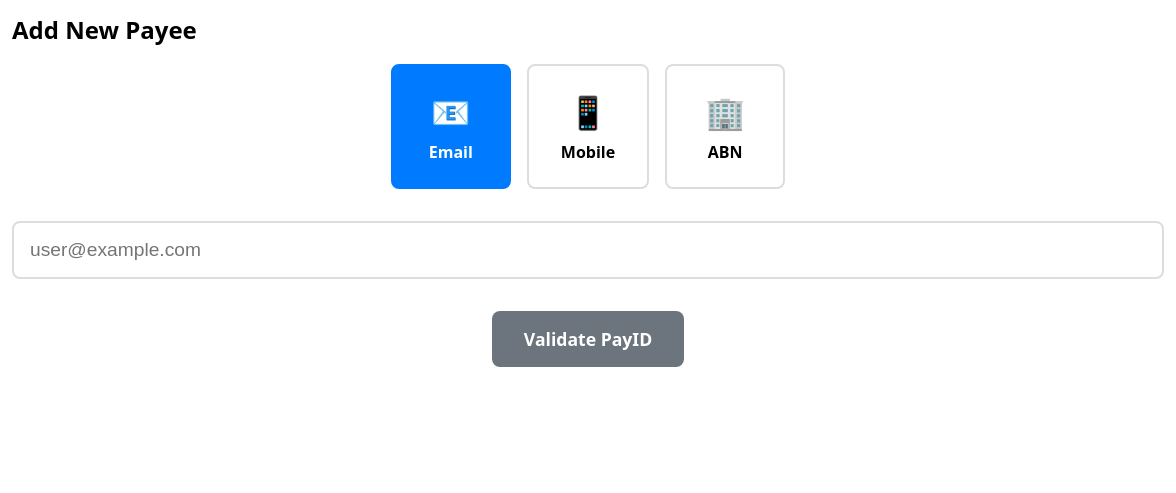
AddNewPayee › form submission › should handle errors during payee creation
Type "test@example.com" into the field with placeholder "user@example.com".
click(588, 250); type("test@example.com")  # box [12, 221, 1164, 279]
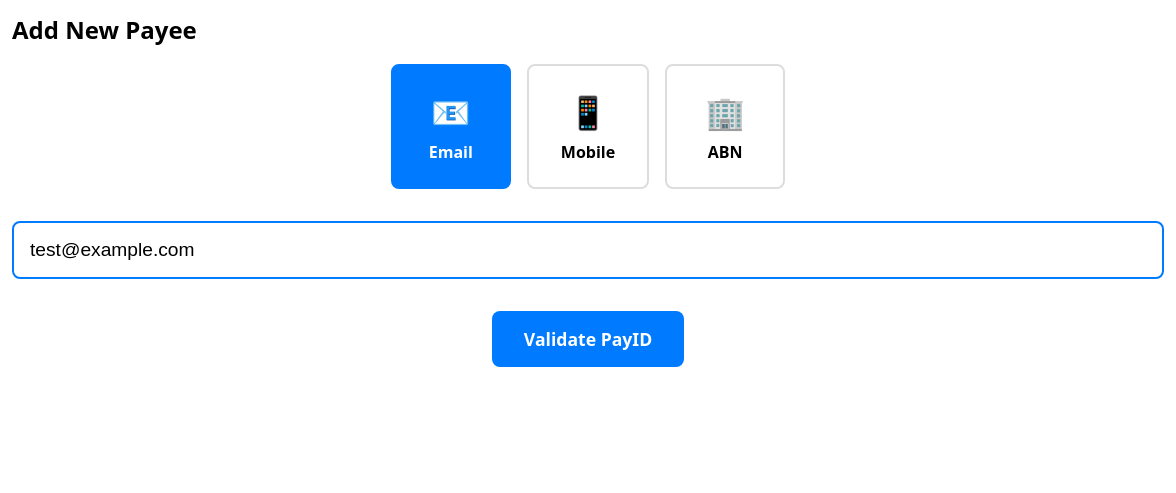
Click the button "Validate PayID".
click(588, 339)  # box [492, 311, 684, 367]
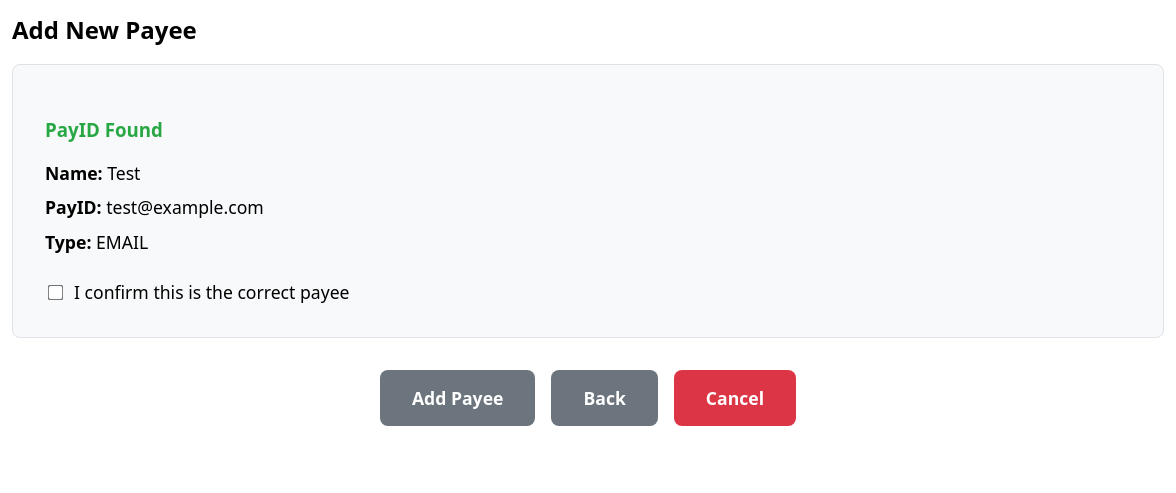
Expected: the heading "PayID Found" is shown, [45, 117, 163, 142]
Click the checkbox.
click(56, 292)  # box [48, 284, 63, 300]
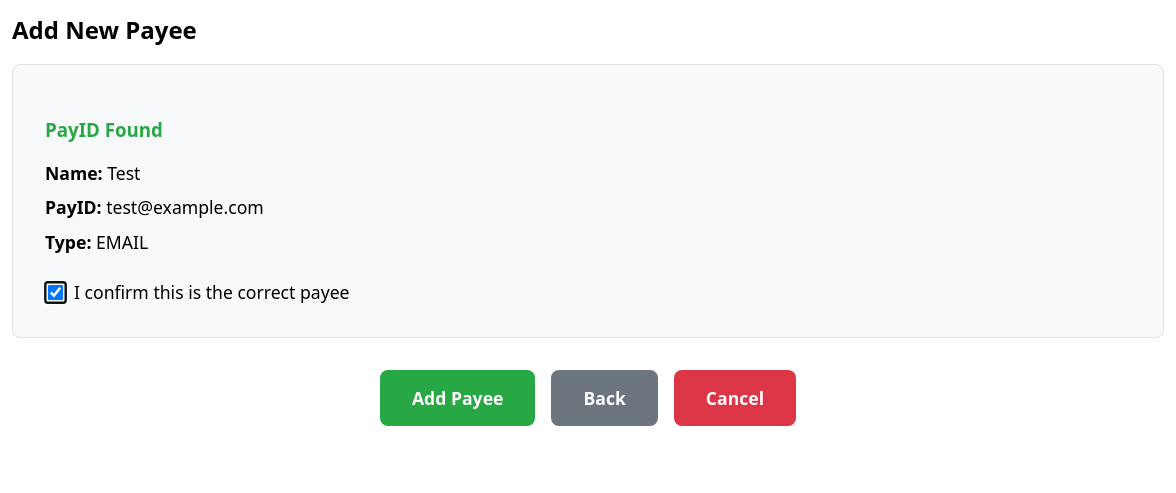
Click the button "Add Payee".
click(458, 398)  # box [380, 370, 536, 426]
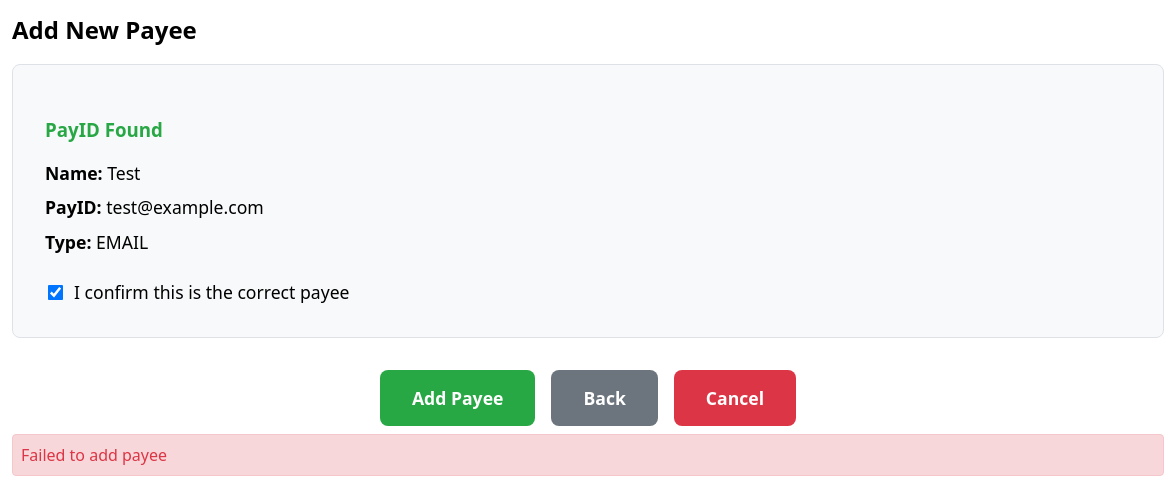
Expected: the text "Failed to add payee" is shown, [12, 434, 1164, 476]
